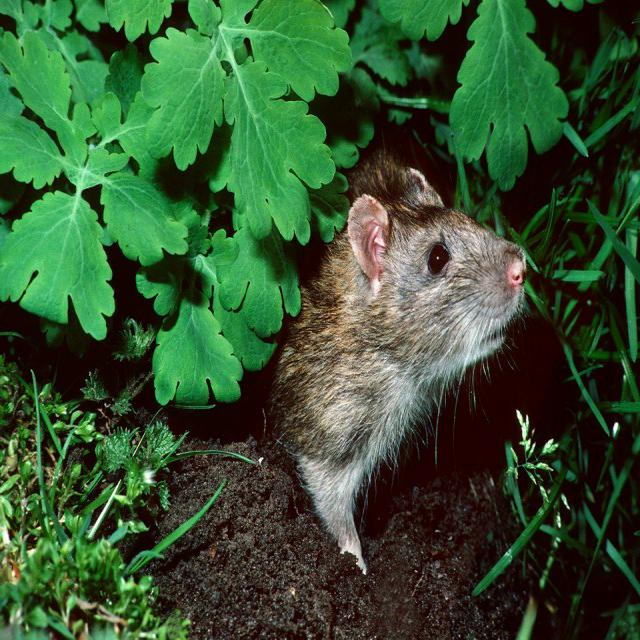rat: (271, 152, 527, 573)
